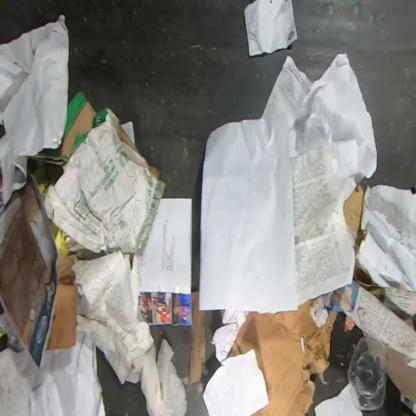cardboard: (43, 92, 166, 256), (225, 299, 338, 415), (314, 279, 415, 363), (47, 254, 78, 351), (189, 290, 207, 385), (343, 185, 366, 249)
rigid_plastic: (348, 336, 387, 410)
